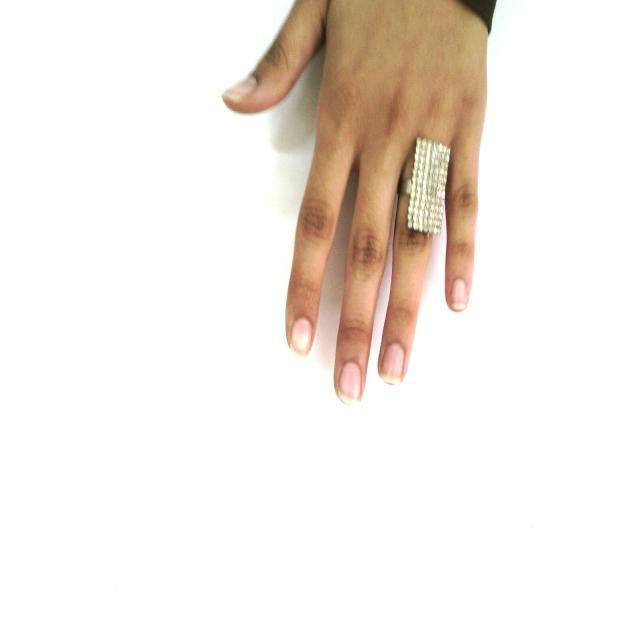Fingernail: (380, 343, 403, 385), (340, 361, 361, 404), (224, 76, 256, 100), (292, 318, 311, 354), (451, 278, 467, 308)
